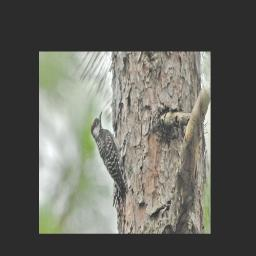Woodpecker: (90, 107, 128, 203)
